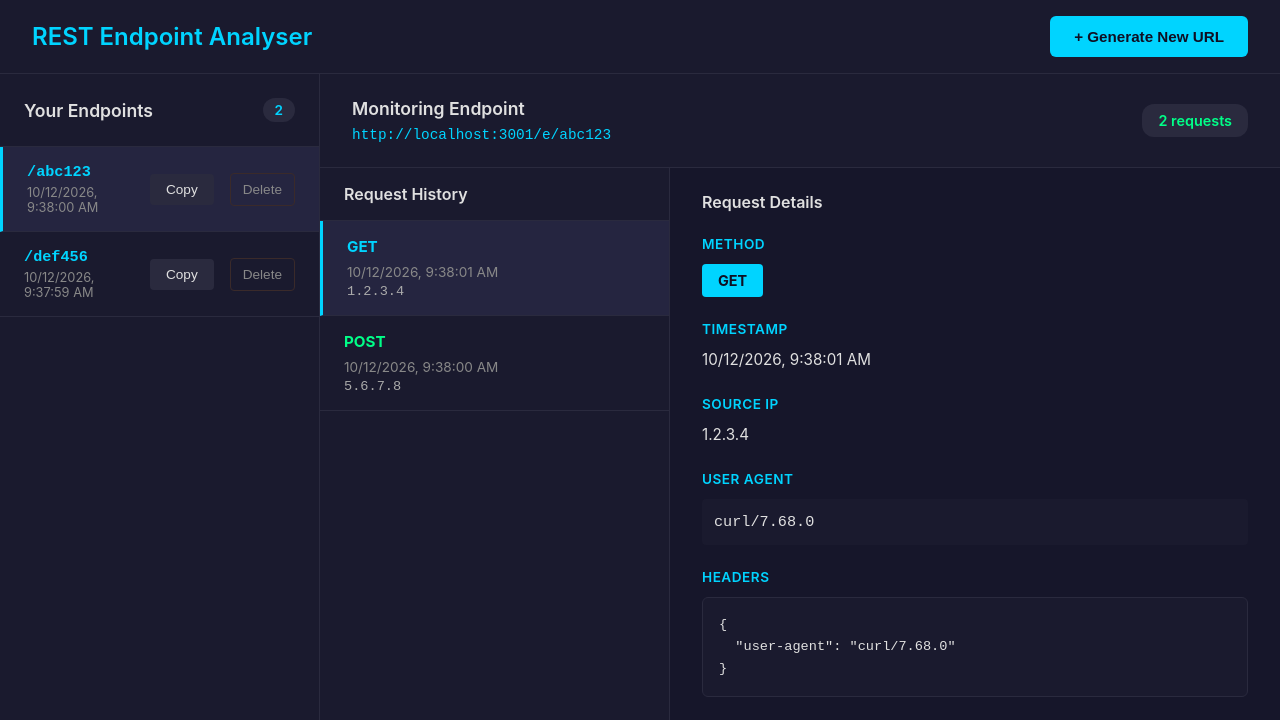
Test: App — real-time WebSocket updates › handleDeleteEndpoint › should keep the current selection when a non-selected endpoint is deleted
Click the button "Delete" in the row of "10/12/2026, 9:37:59 AM": (262, 274) [230, 258, 295, 290]
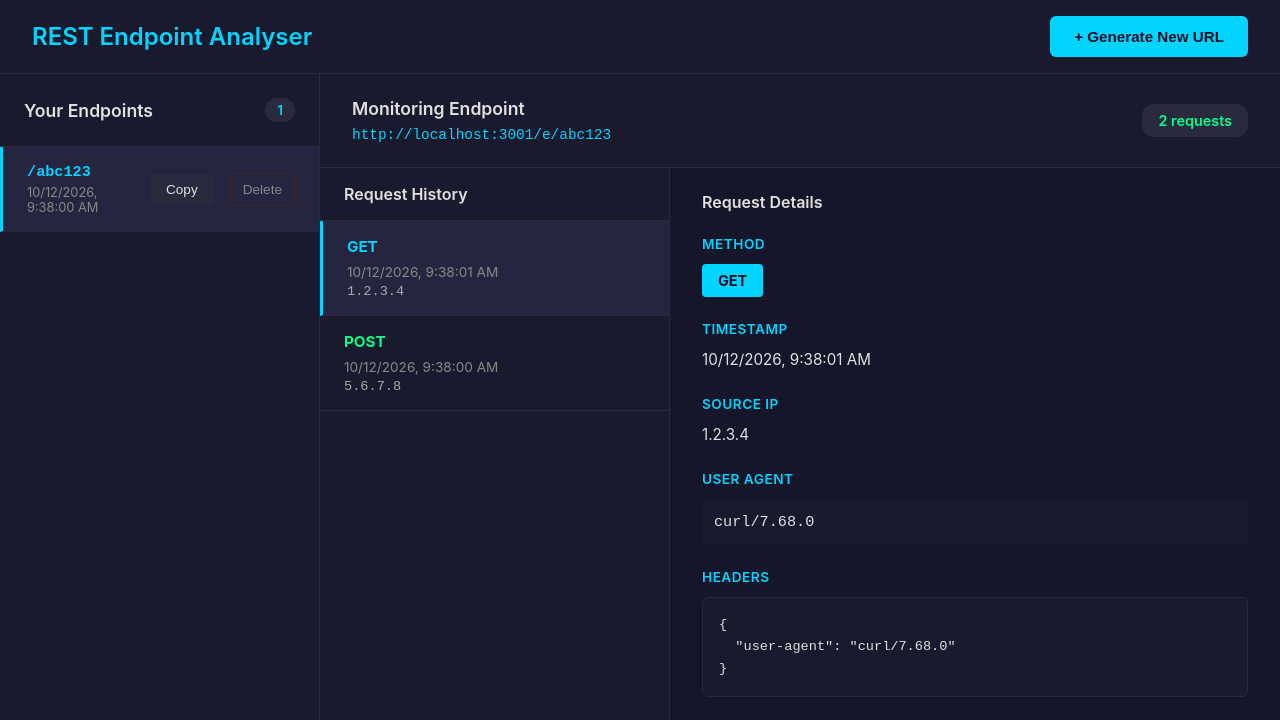
Expected: the text "http://localhost:3001/e/abc123" is shown, [352, 127, 611, 143]
Expected: the text "/def456" is gone
